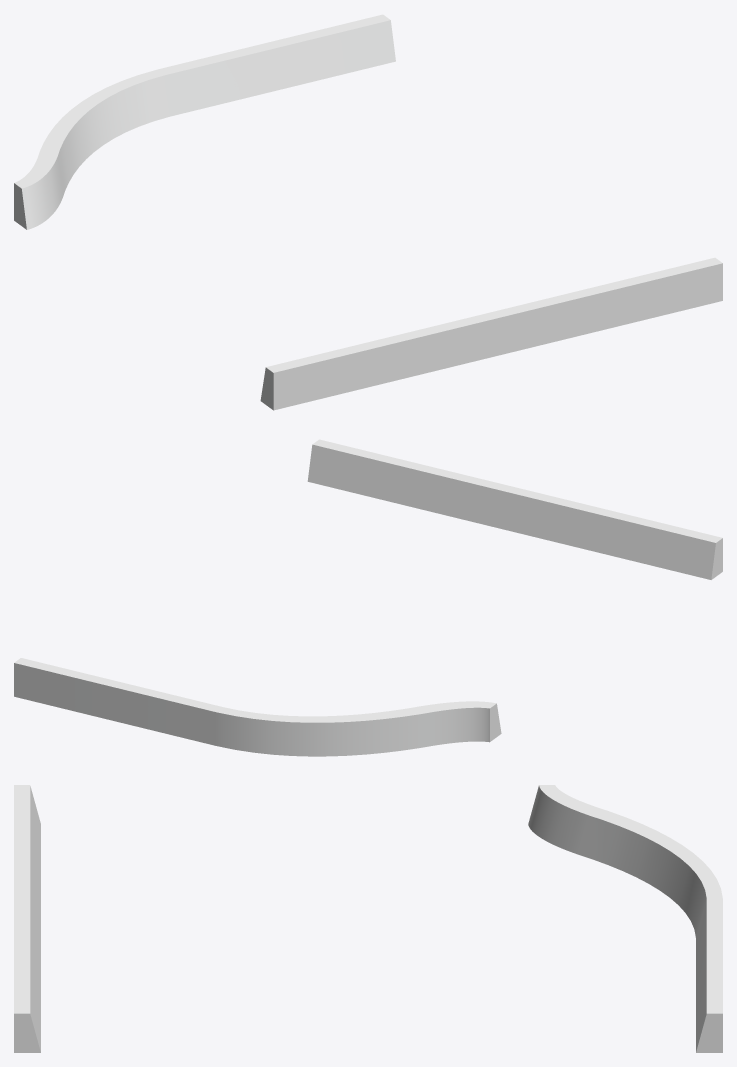
Rendered from kenney-city-roads-road-side-exit-barrier.glb.
3 views of the same model, one above another, from view 1: azimuth 30°, elevation 25°; view 2: azimuth 150°, elevation 25°; view 3: azimuth 270°, elevation 25° (orthographic). The views are drawn at different scales.
Visible parts, largest first — view 1: road-side-exit-barrier; view 2: road-side-exit-barrier; view 3: road-side-exit-barrier.
Boxes of the visible parts, left/top/right/bottom form: road-side-exit-barrier: left=14, top=14, right=722, bottom=410; road-side-exit-barrier: left=14, top=439, right=722, bottom=756; road-side-exit-barrier: left=14, top=785, right=722, bottom=1052.
Bounding box in the file's own units: 1 × 0.08 × 1.31.
Materials: 1 (1 with a texture image).
